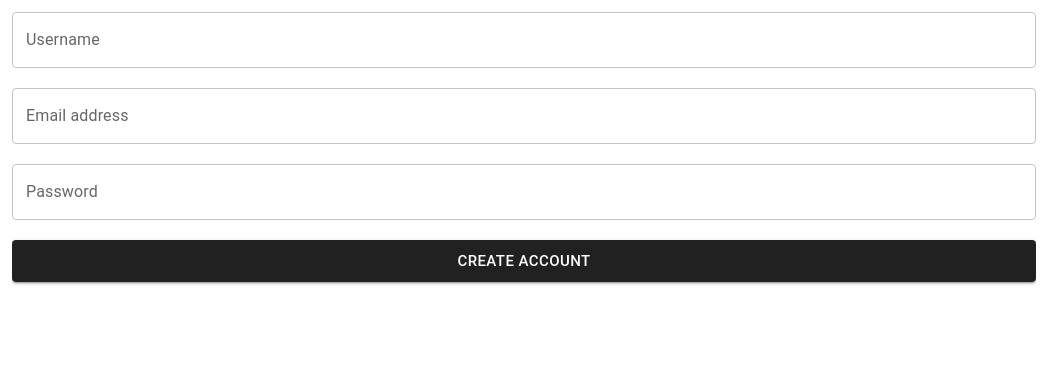
Test: AuthRegisterForm › displays error message on failed form submission
// Enter input values
In the field labelled "Username": (524,40) [12,12,1036,68], type "testuser"
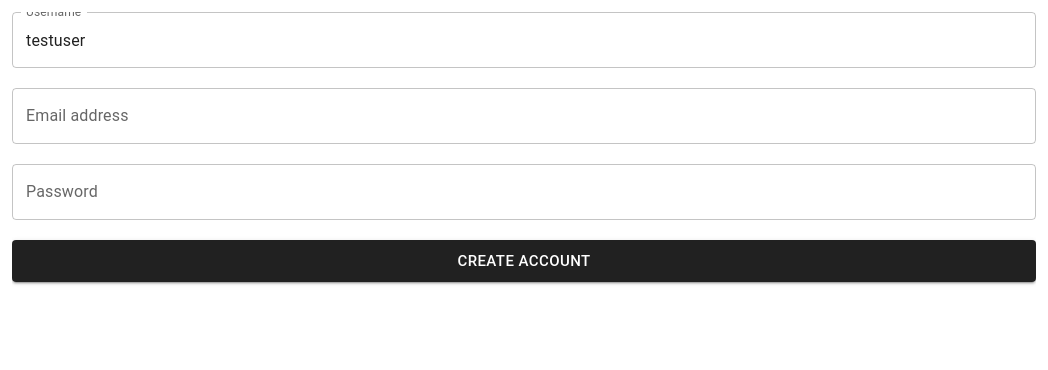
In the field labelled "Email address": (524,116) [12,88,1036,144], type "test@example.com"
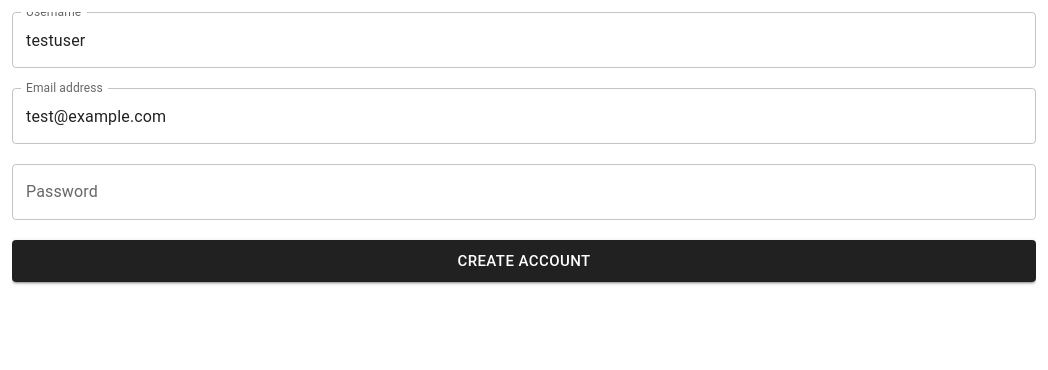
In the password field labelled "Password": (501,192) [12,164,990,220], type "testpassword"
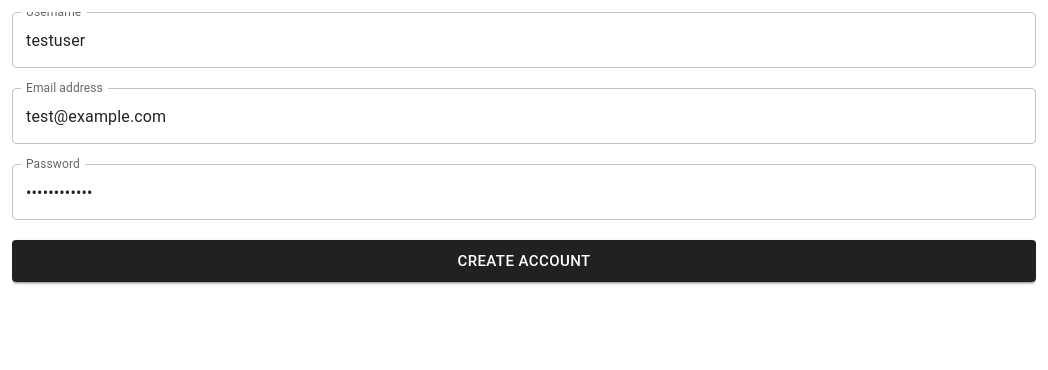
// Submit form
Click the button "Create account": (524,261) [12,240,1036,282]
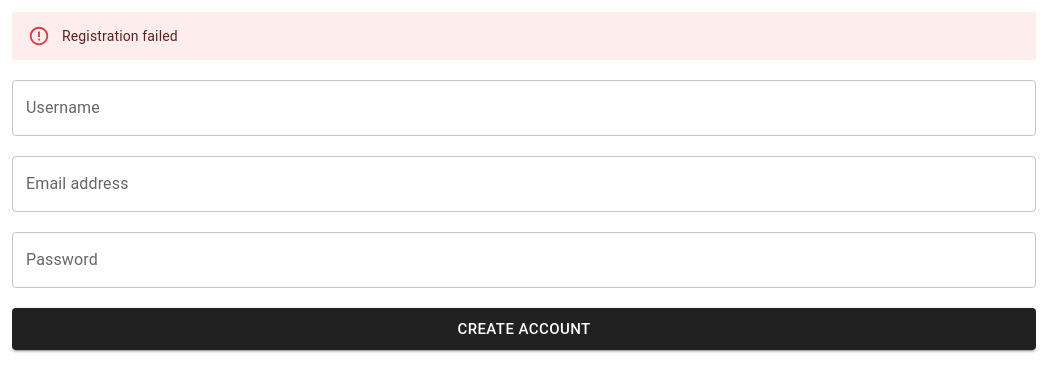
Result: the text "Registration failed" is shown at [62,28,178,44]
